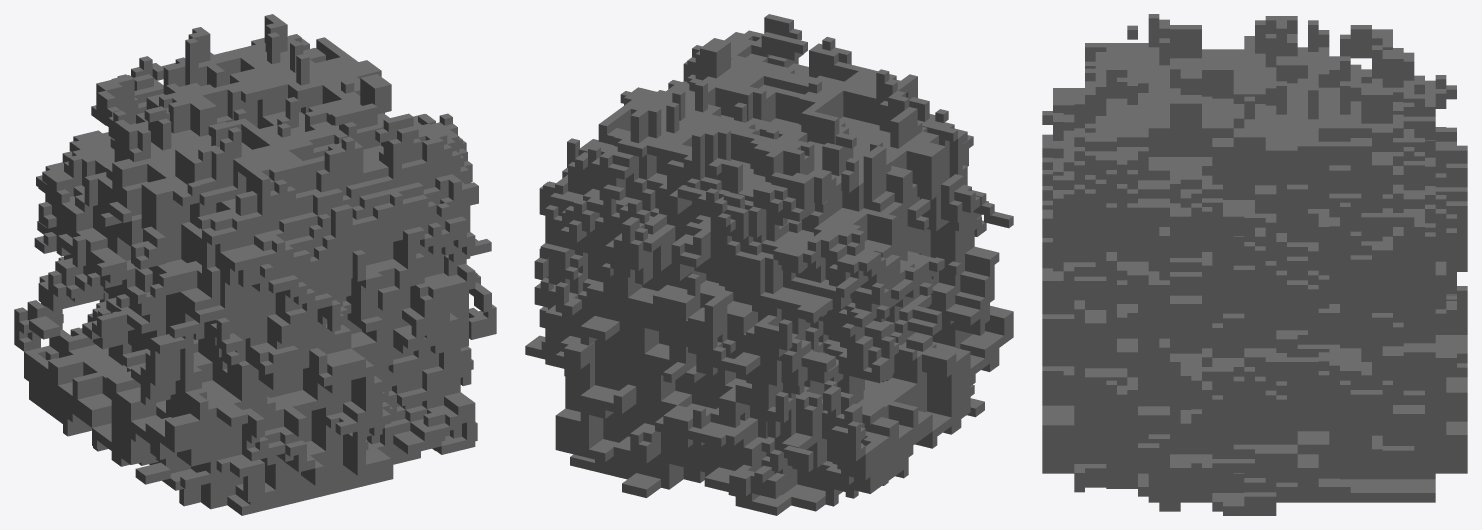
File: large bolder.obj
3 renders of one model, left to right at view 1: azimuth 30°, elevation 25°; view 2: azimuth 150°, elevation 25°; view 3: azimuth 270°, elevation 25°, orthographic. The views are drawn at different scales.
Size of the model in its own units: 40 by 40 by 40.
1 material, 1 textured.
